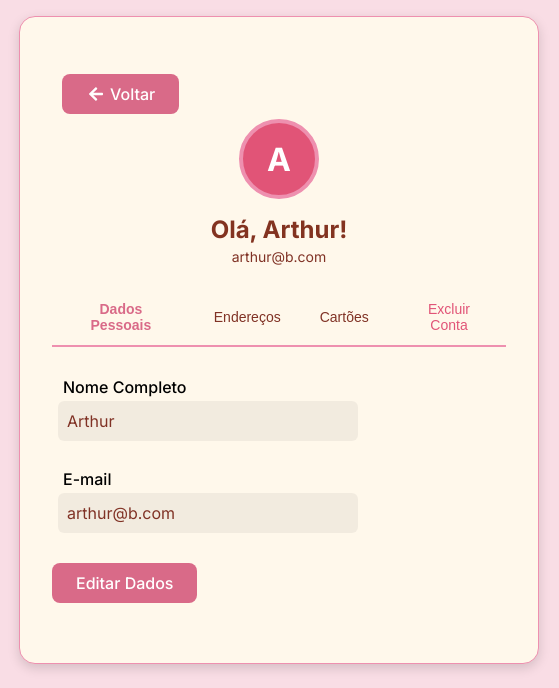
Test: Profile › confirmar nova senha diferente deve mostrar erro
The image size is (559, 688).
Click the button "Editar Dados".
click(125, 583)  # box 52,563 -> 197,603
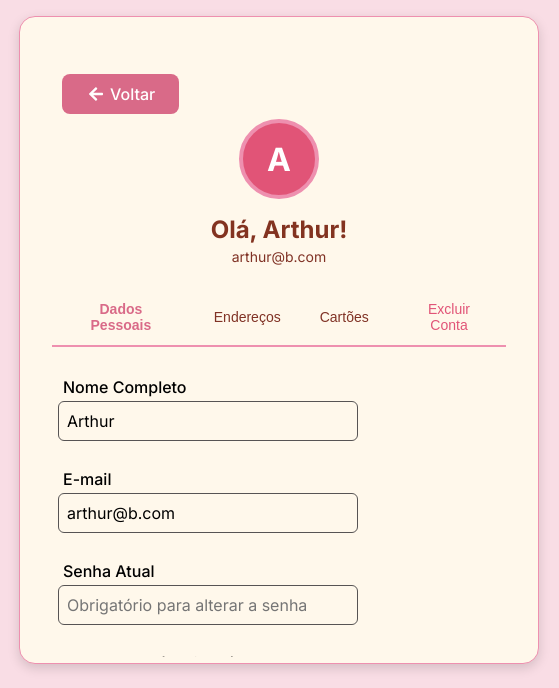
Type "antiga123" into the password field with placeholder "Obrigatório para alterar a senha".
click(208, 605); type("antiga123")  # box 58,585 -> 358,625
(page scrolled)
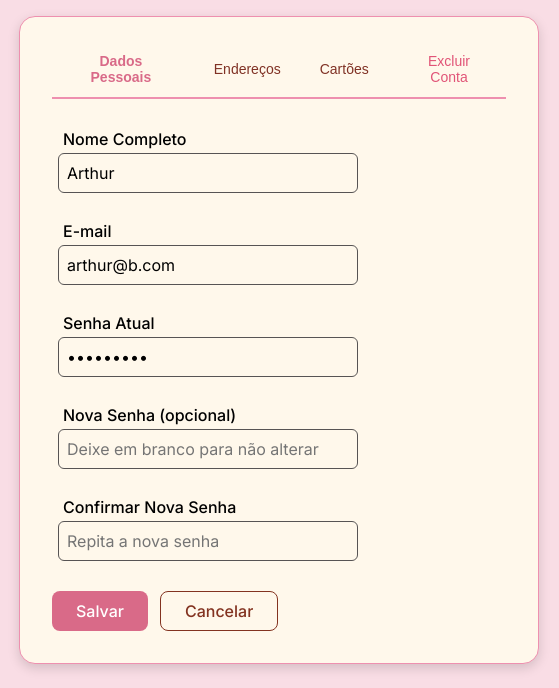
Type "NovaSenha123" into the password field with placeholder "Deixe em branco para não alterar".
click(208, 449); type("NovaSenha123")  # box 58,429 -> 358,469
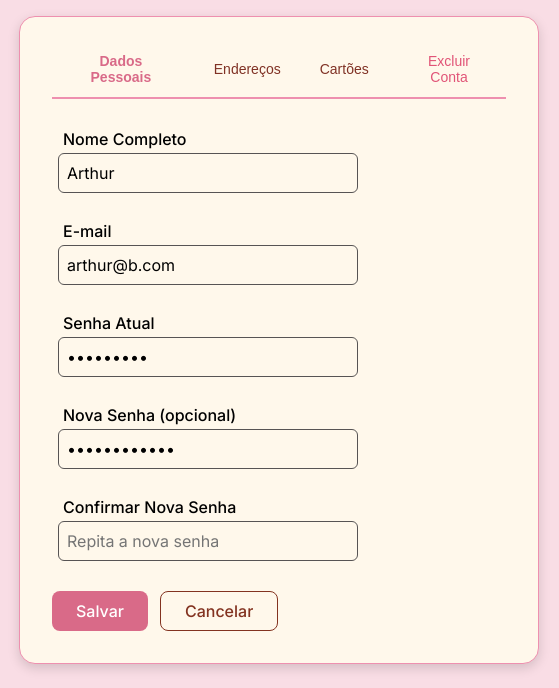
Type "Diferente123" into the password field with placeholder "Repita a nova senha".
click(208, 541); type("Diferente123")  # box 58,521 -> 358,561
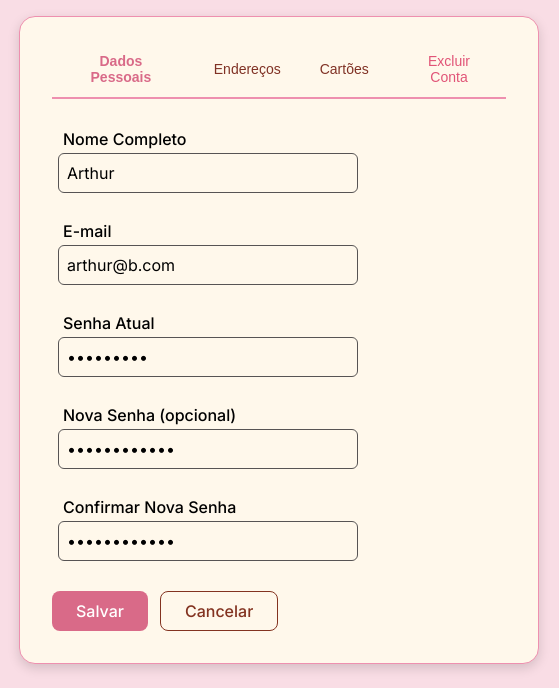
Click the button "Salvar".
click(100, 611)  # box 52,591 -> 148,631
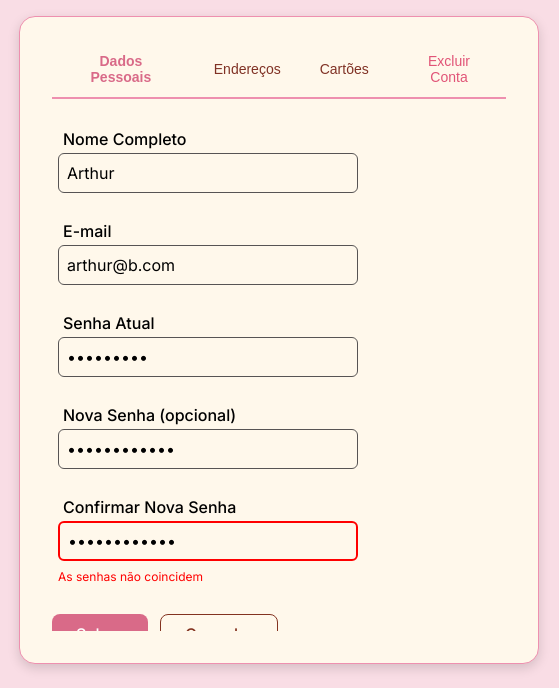
Expected: the text "As senhas não coincidem" is shown, 58,569 -> 203,584
